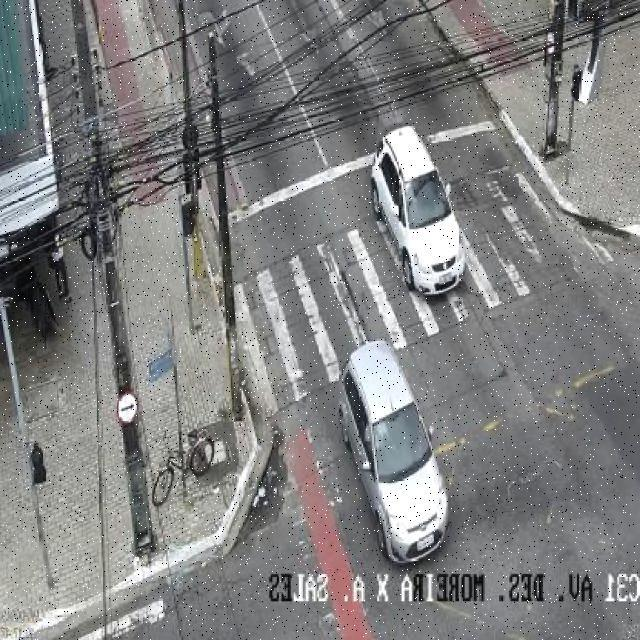Car: (324, 326, 462, 564), (361, 109, 475, 311)
